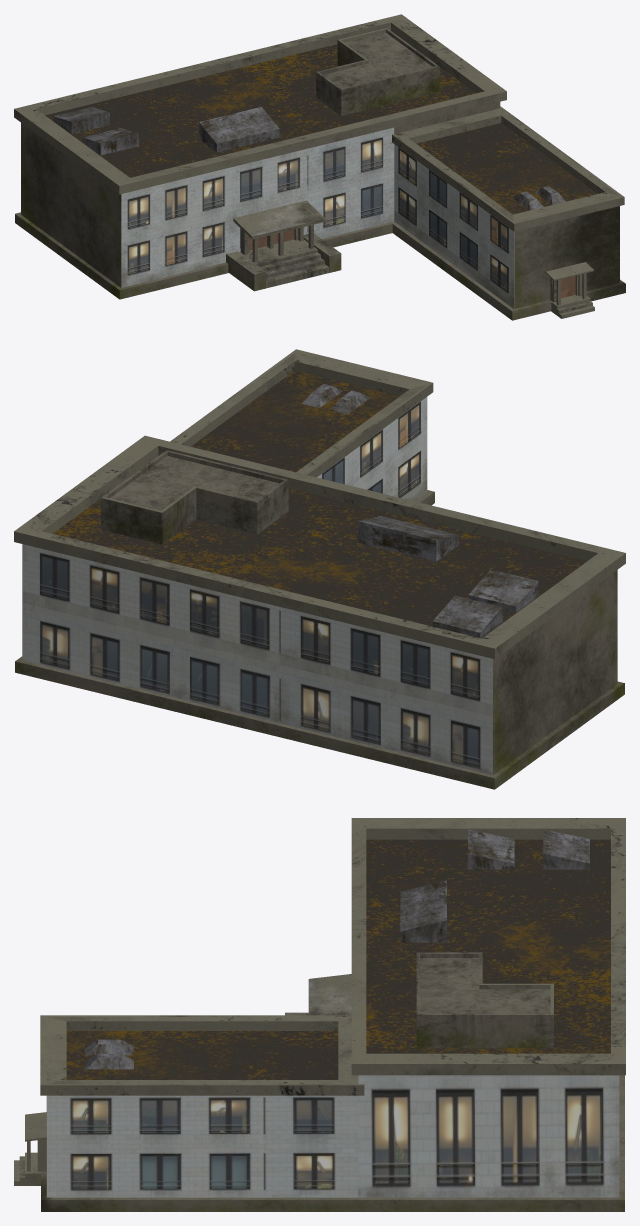
The model's file is school_defolt.fbx.
The picture shows the model from 3 angles, top to bottom: view 1: azimuth 30°, elevation 25°; view 2: azimuth 150°, elevation 25°; view 3: azimuth 270°, elevation 25°; orthographic projection. The views are drawn at different scales.
Visible parts, largest first — view 1: School; view 2: School; view 3: School.
Boxes of the visible parts, bbox=[...] form: School: bbox=[14, 14, 625, 320]; School: bbox=[14, 349, 625, 789]; School: bbox=[14, 818, 625, 1211].
Size of the model in its own units: 3256 by 1054 by 3423.
1 material, 1 textured.
